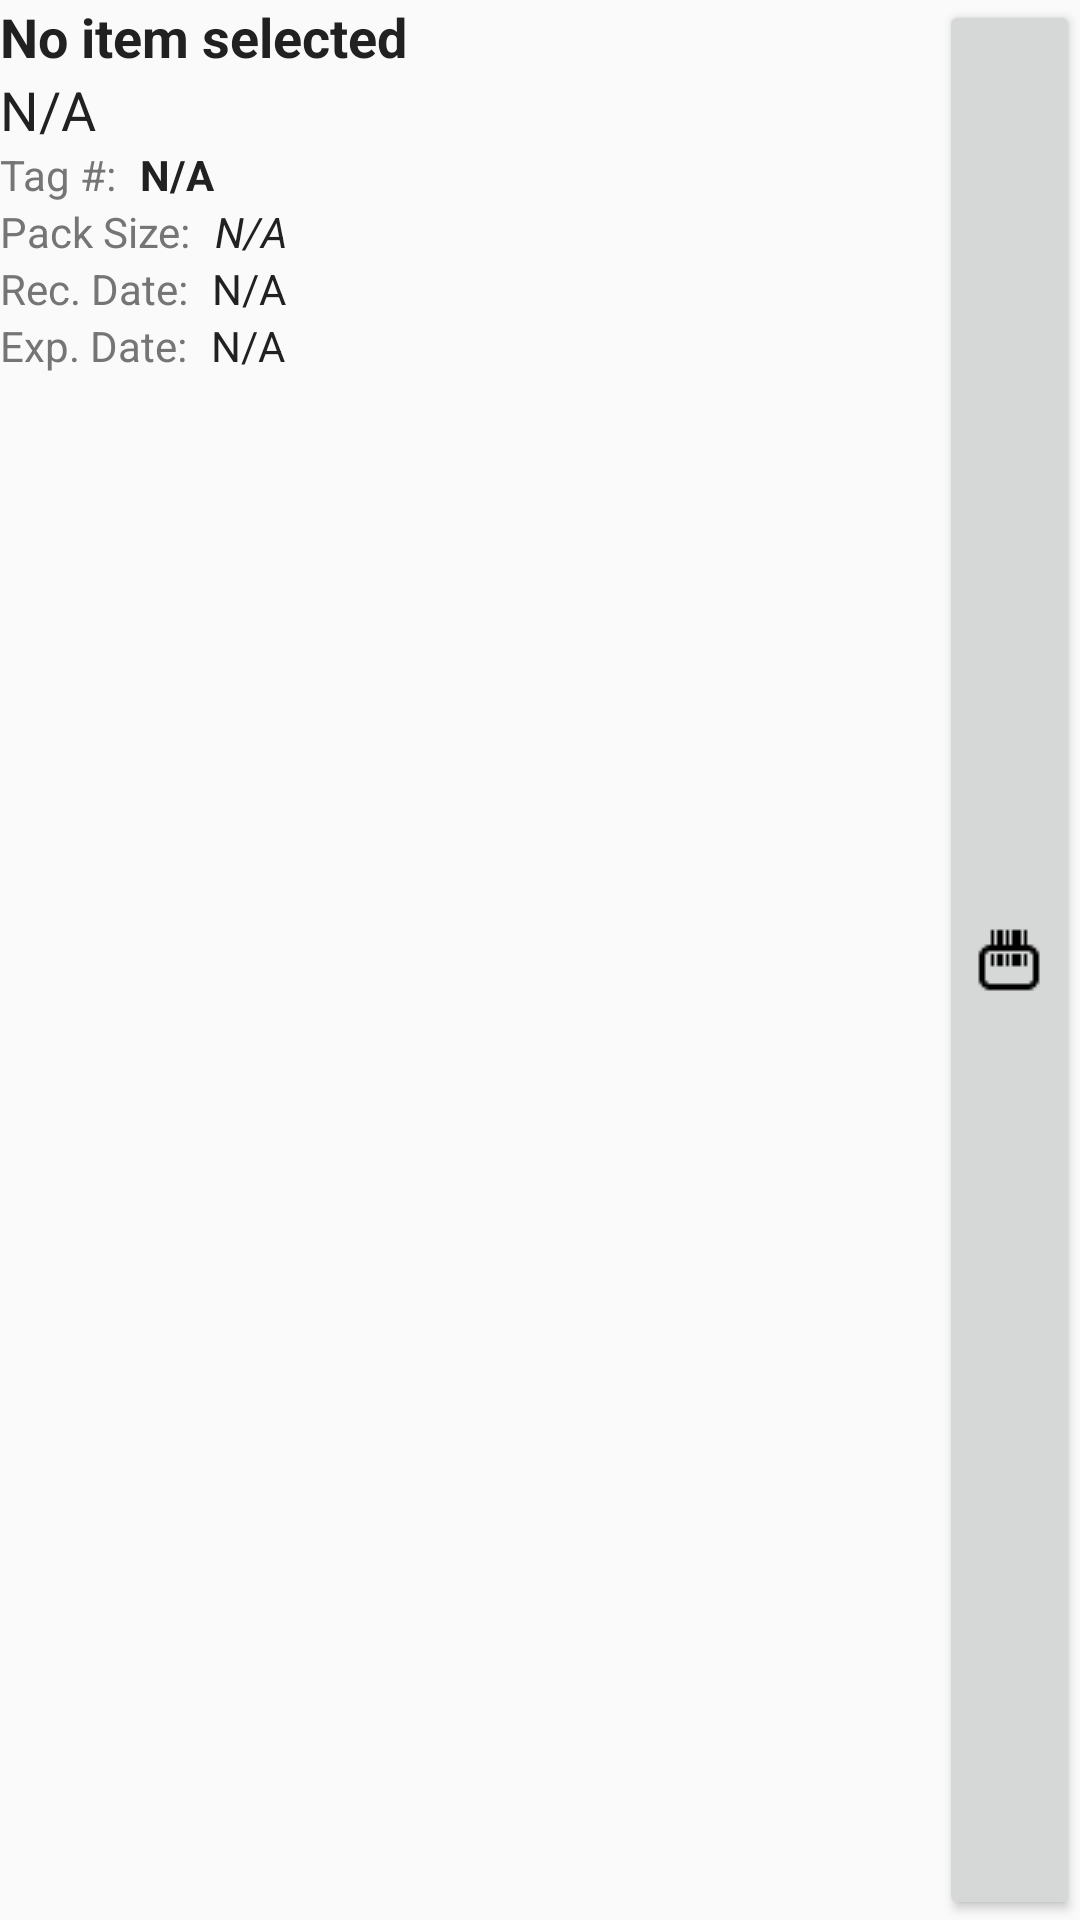

Icon bounding boxes for this 1080px×1920px phone screenshot, format Rect(x1, y1, x2, y2):
barcode scanner: Rect(978, 929, 1040, 991)
